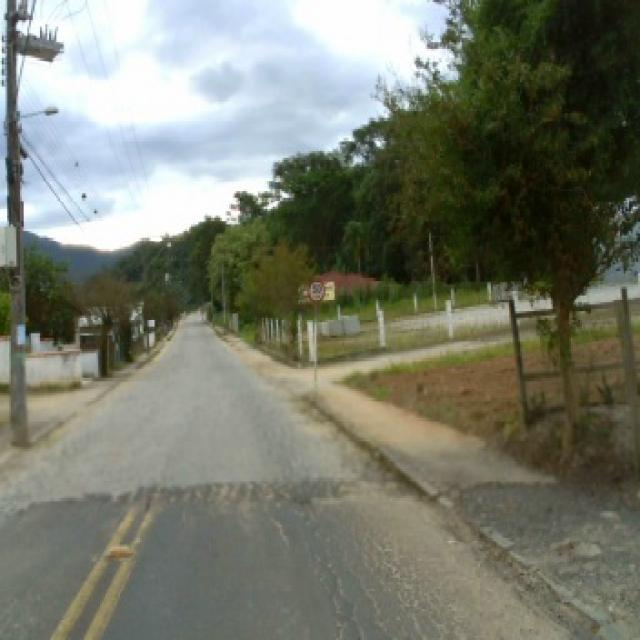Poth-hole: (349, 514, 469, 636), (151, 480, 291, 549), (307, 548, 364, 636), (340, 542, 388, 631), (294, 480, 384, 507), (105, 542, 131, 556)
